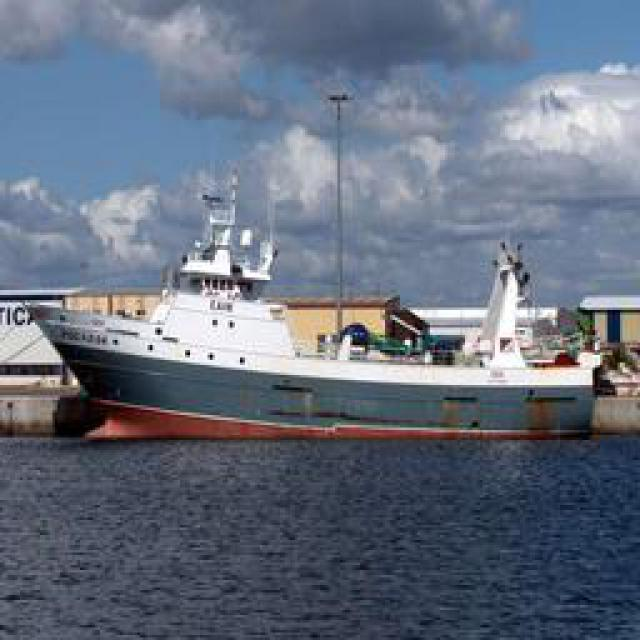Ship: (28, 186, 616, 439)
